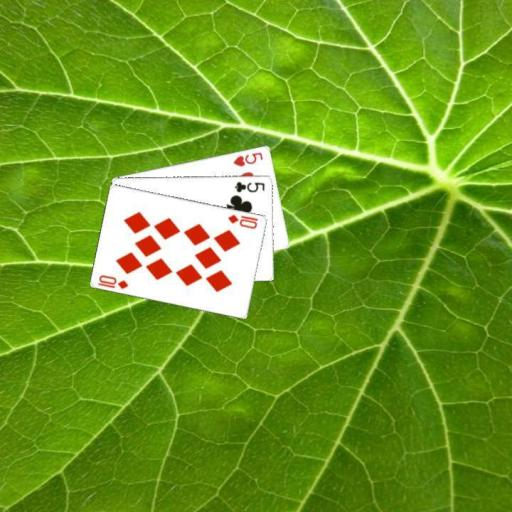card-corner: (224, 211, 260, 230), (230, 148, 264, 168), (95, 272, 130, 290), (232, 178, 266, 194)
